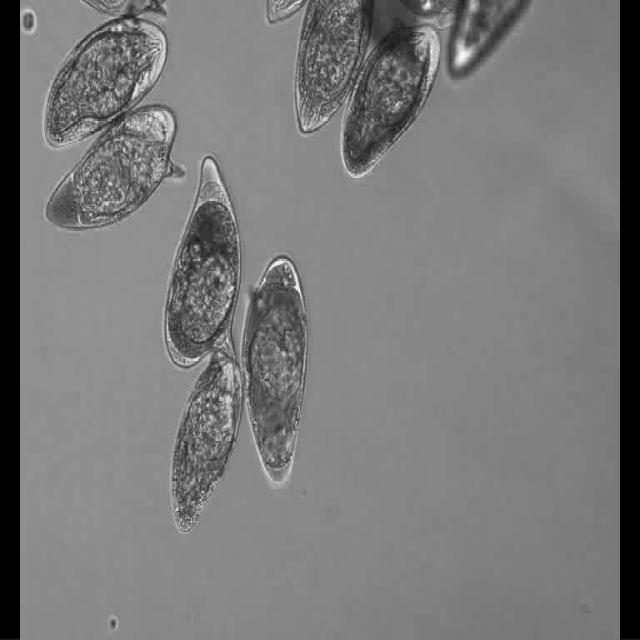Schistosoma: (40, 100, 187, 239), (162, 150, 252, 374), (236, 248, 314, 495), (337, 13, 444, 188), (40, 15, 172, 155), (168, 331, 249, 541), (290, 0, 376, 140)
